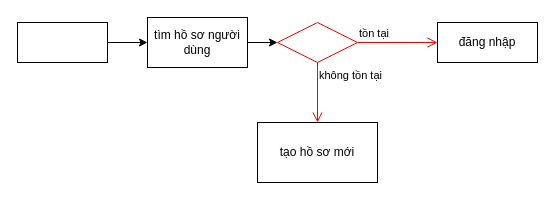
Image size: 555x200. Some labels were removed from this diagram. Here are the shapes that lost their labels. From the top down, the box of each, then its label:
(16, 22, 108, 62): chọn hồ sơ
(276, 22, 358, 62): kiểm tra
